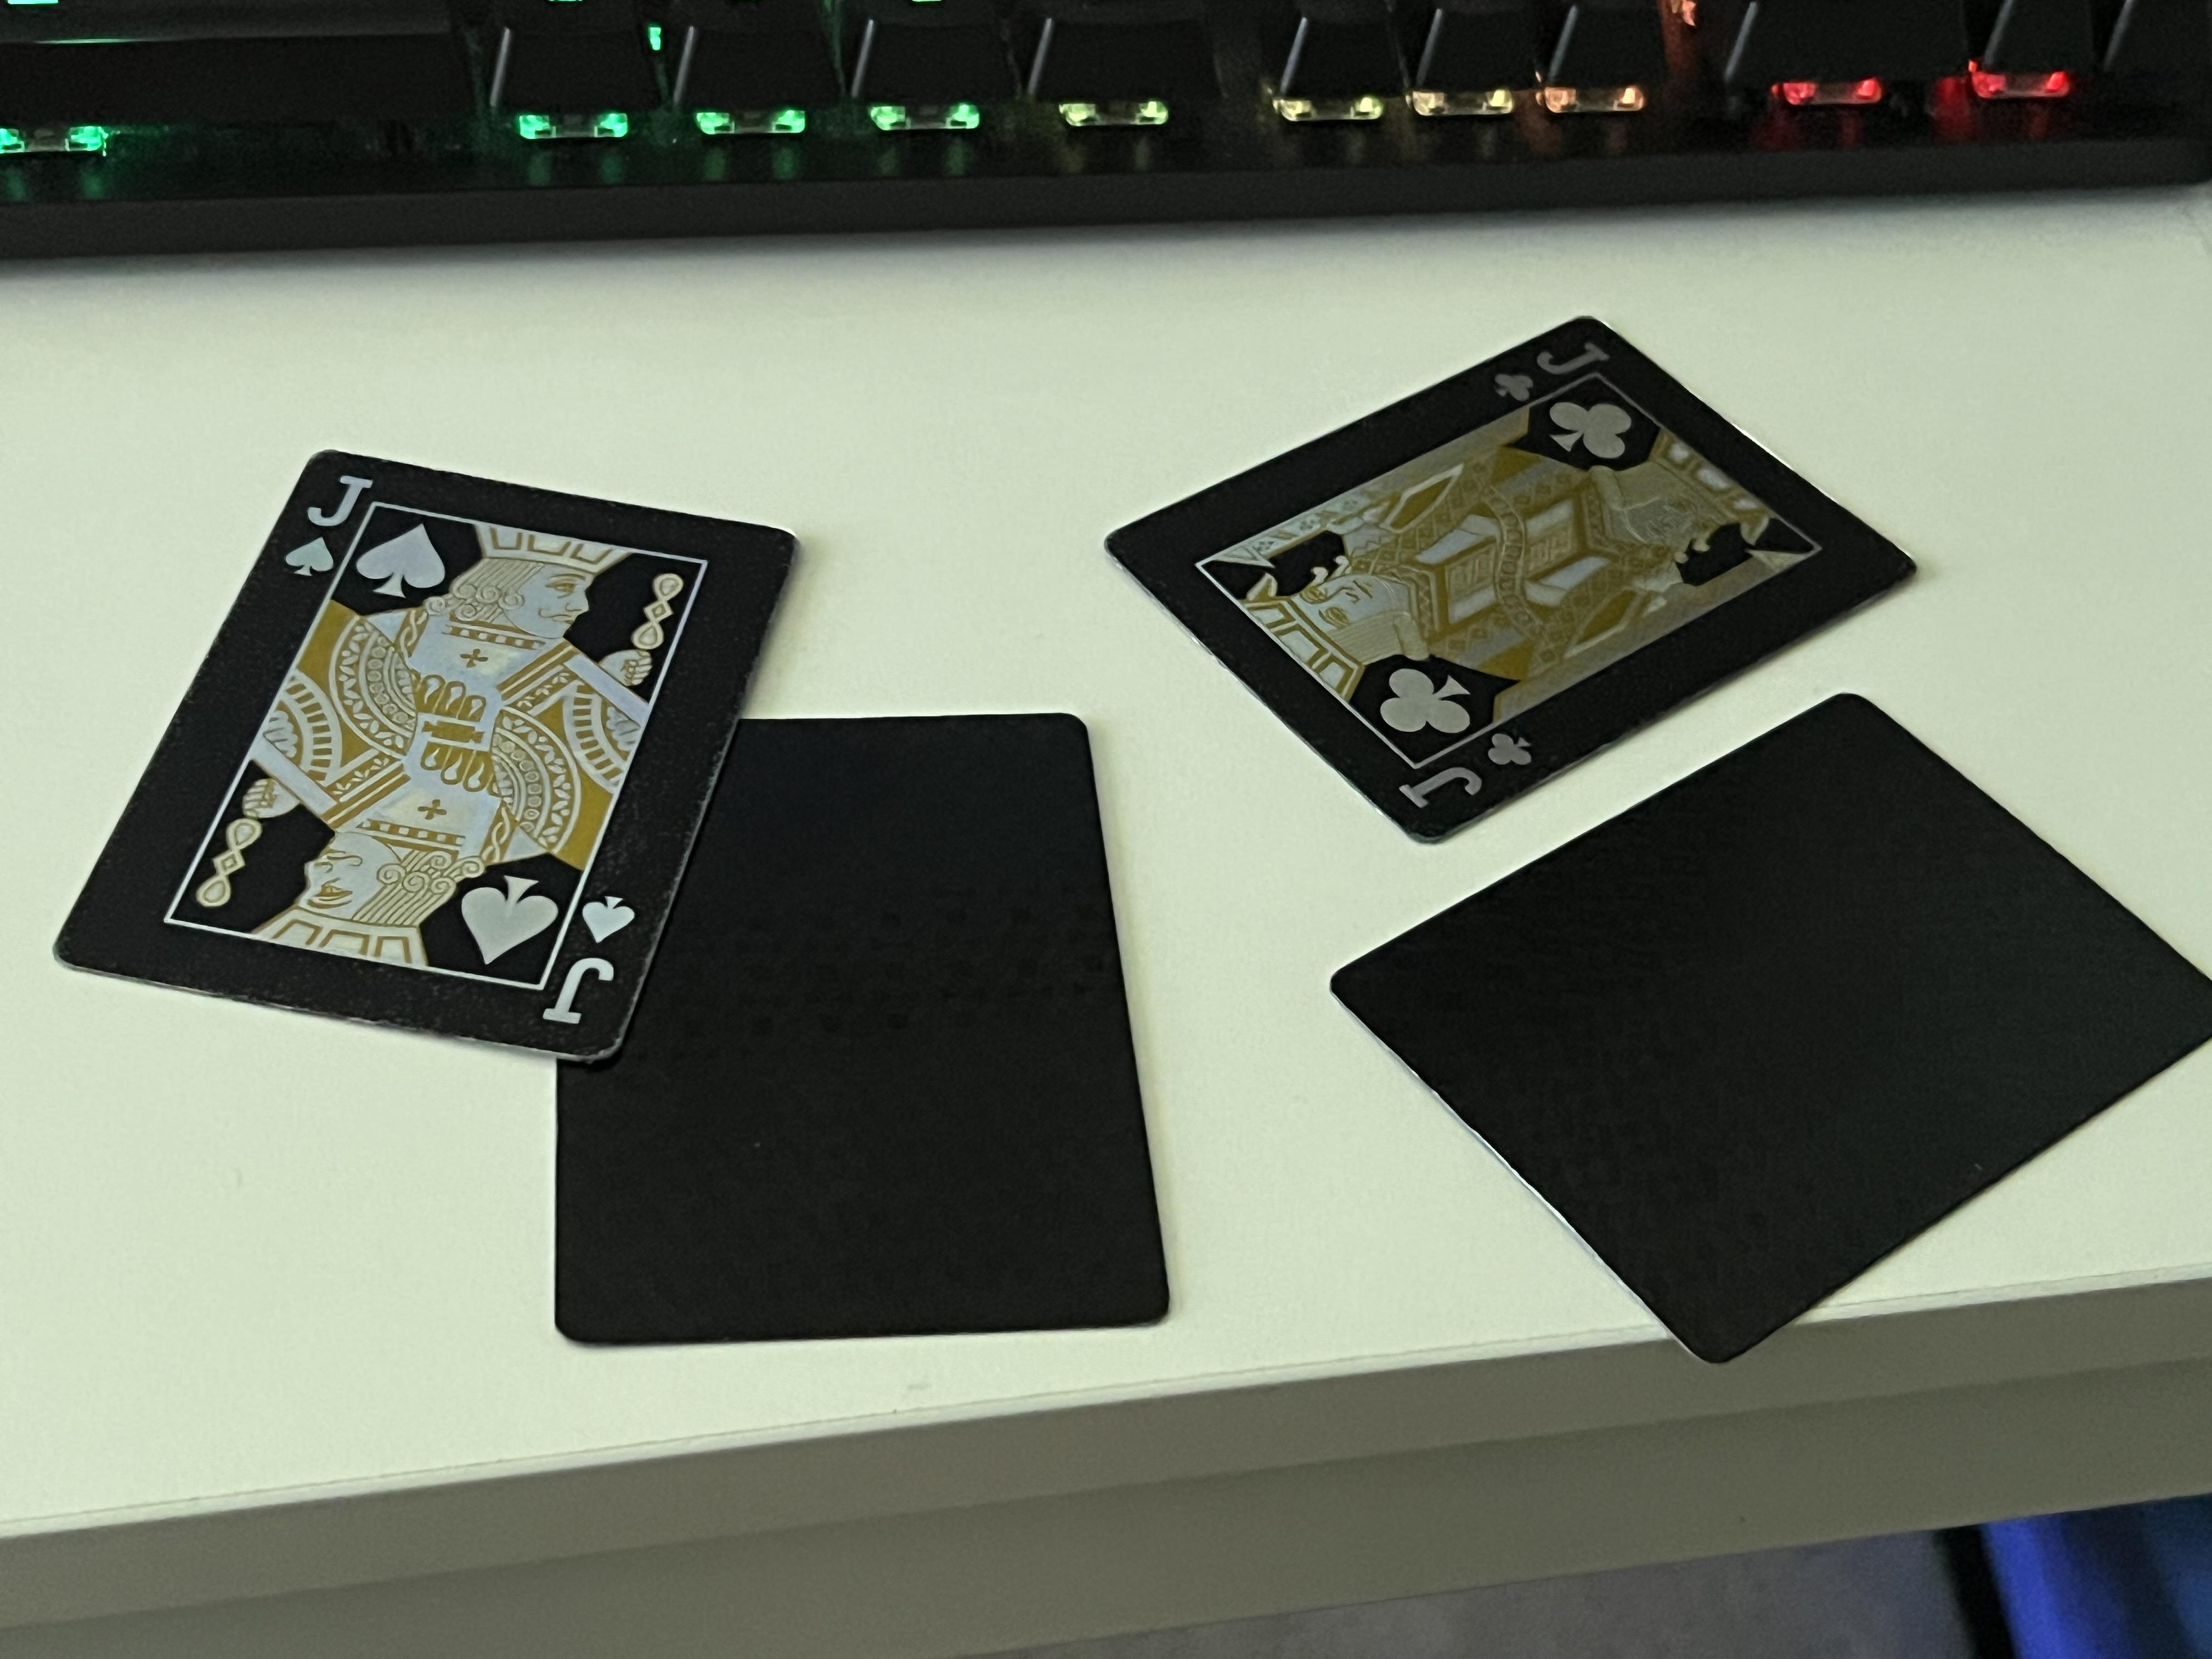BACK: (1313, 673, 2212, 1387), (549, 687, 1193, 1363)
JC: (1393, 725, 1541, 826), (1474, 324, 1622, 410)
JS: (538, 878, 631, 1042), (280, 448, 368, 584)
